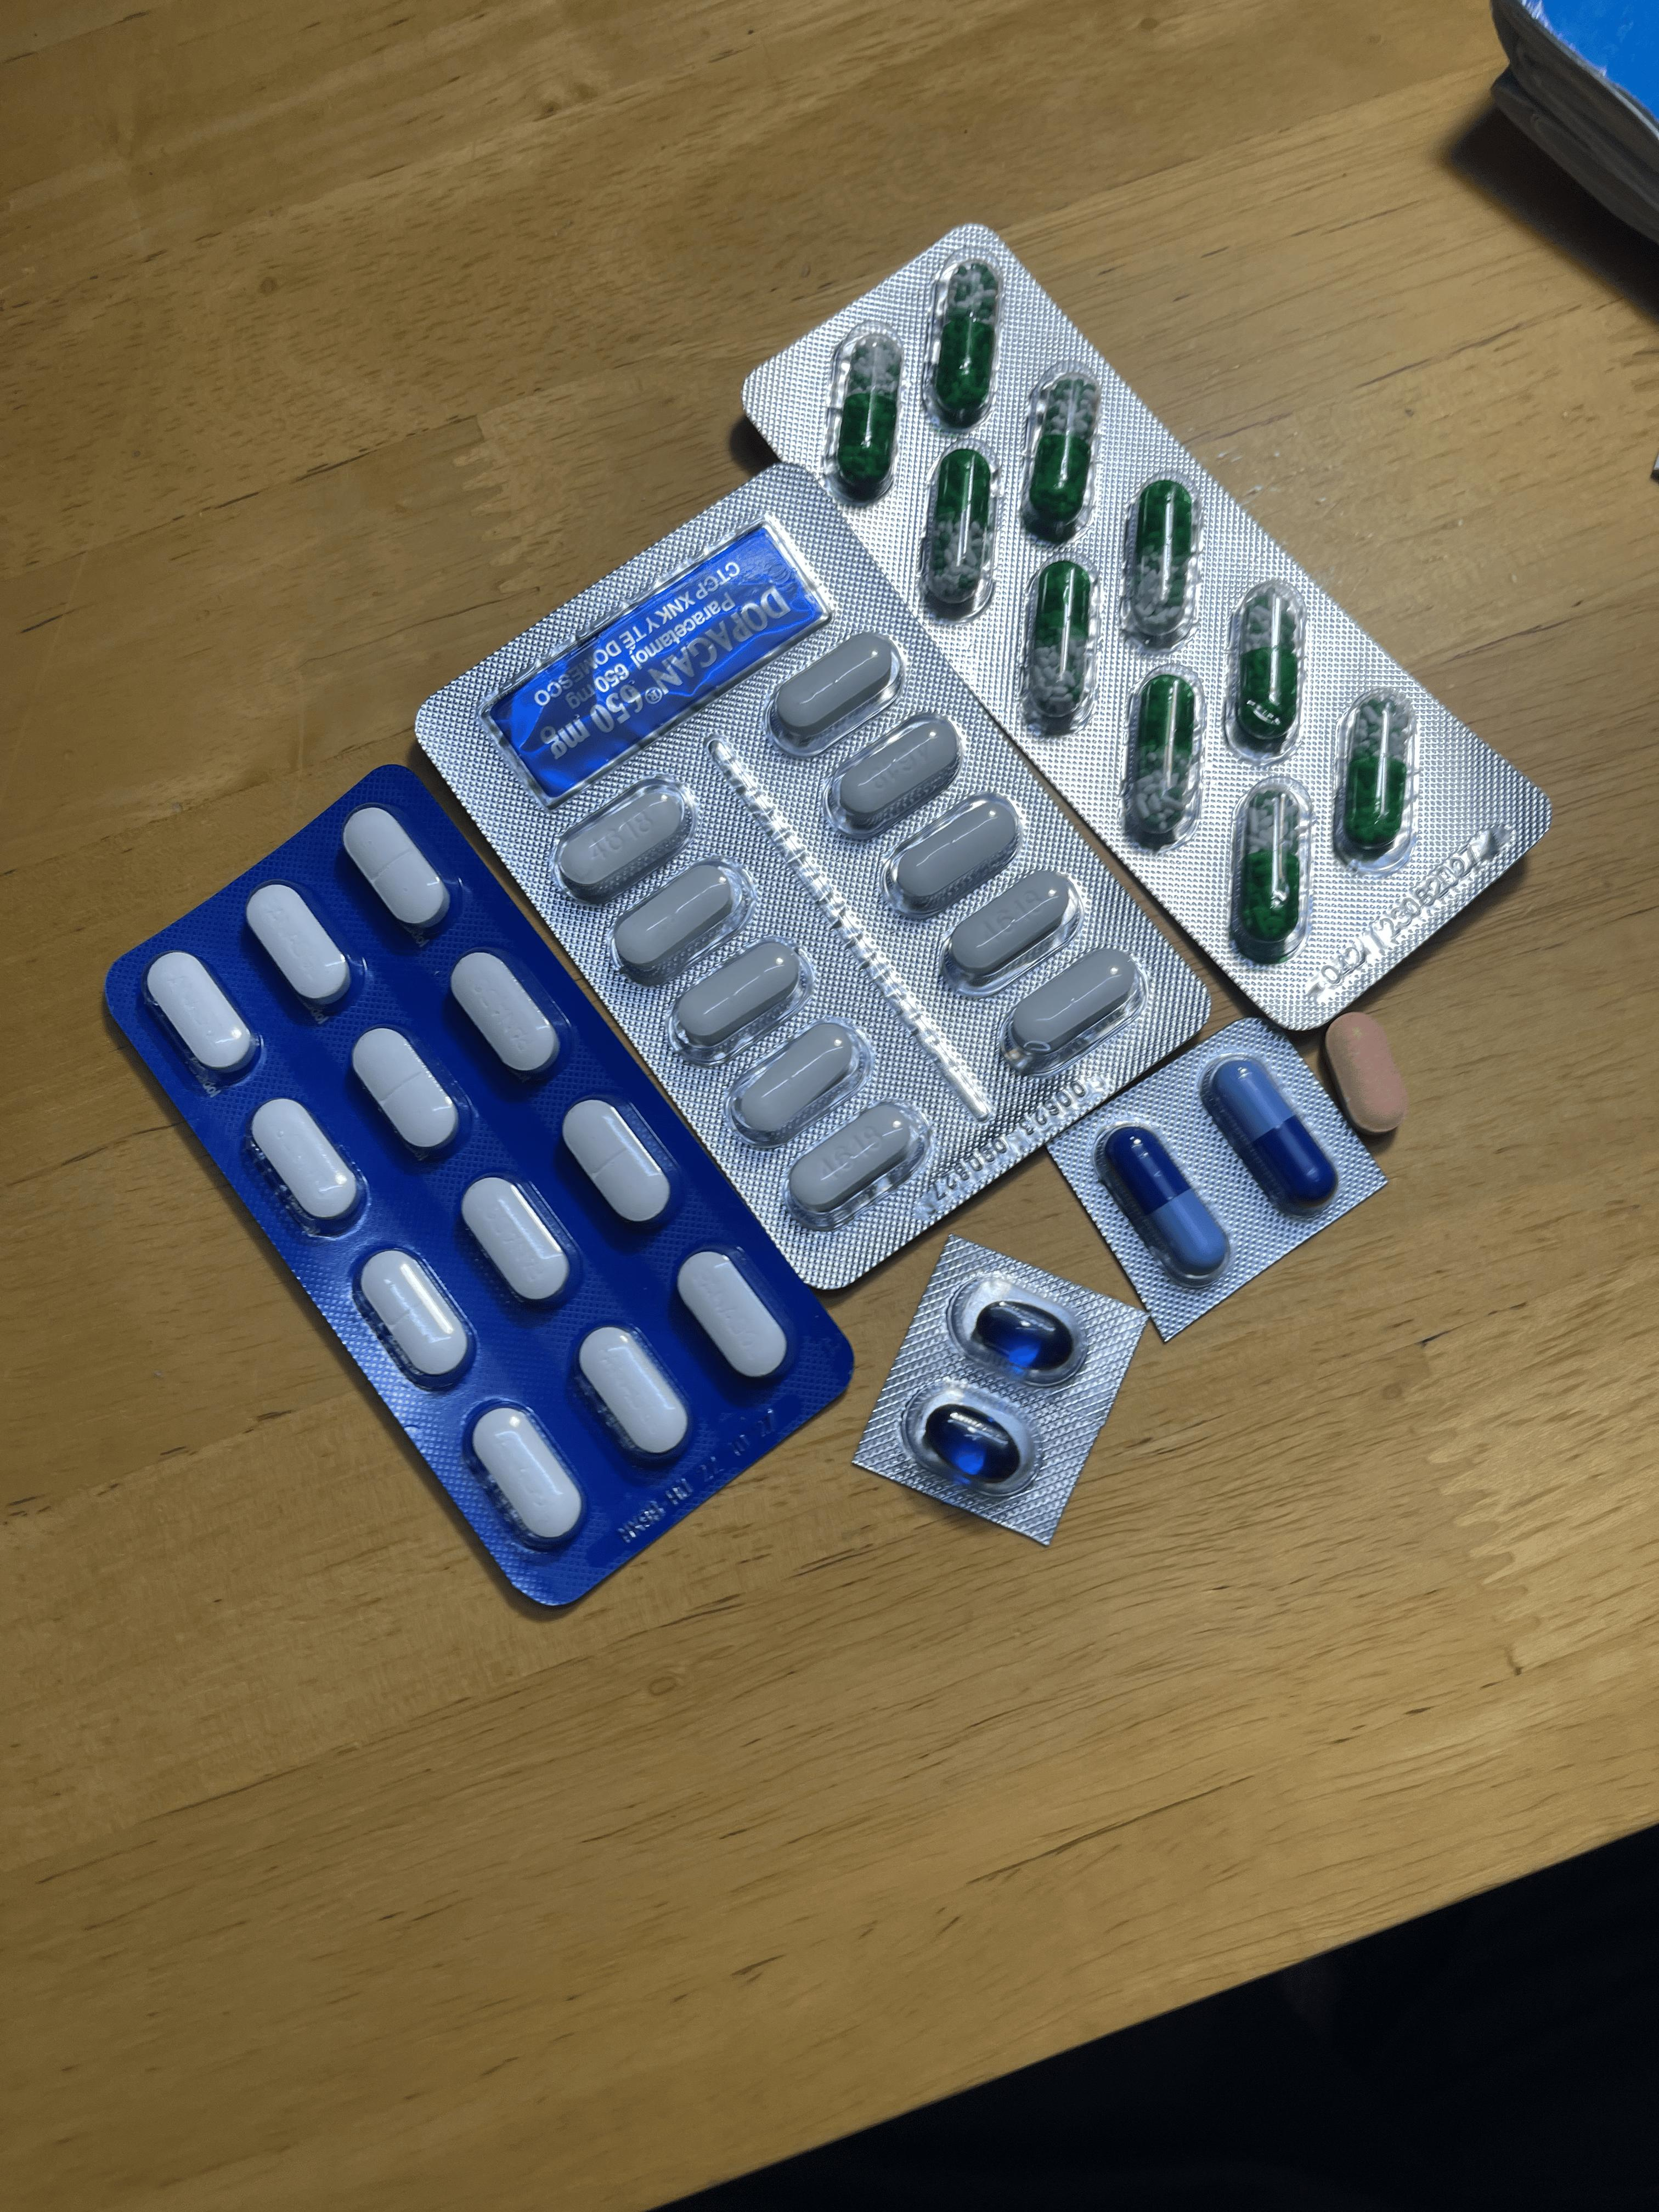Lincomyxin_500mg: (924, 1400, 1021, 1480), (972, 1298, 1073, 1371)
Loratadine_10mg: (1324, 1012, 1406, 1134)
Paracetamol_350mg: (467, 1402, 584, 1547), (573, 1322, 692, 1461), (674, 1245, 791, 1386), (354, 1245, 471, 1386), (458, 1174, 573, 1308), (559, 1096, 674, 1228), (247, 1097, 362, 1228), (350, 1026, 464, 1158), (143, 951, 258, 1080), (450, 949, 561, 1078), (342, 806, 455, 932), (244, 883, 354, 1010)
Paracetamol_500mg: (877, 789, 1025, 918), (608, 853, 749, 988), (552, 772, 695, 902), (936, 866, 1080, 995), (782, 1097, 927, 1224), (1000, 948, 1140, 1076), (824, 711, 965, 838), (666, 935, 809, 1059), (727, 1014, 863, 1143), (765, 631, 894, 758)
Paracetamol_650mg: (1227, 777, 1310, 965), (1122, 671, 1202, 848), (826, 329, 906, 502), (918, 444, 997, 617), (1019, 373, 1100, 540), (1335, 690, 1412, 859), (1021, 557, 1094, 733), (927, 254, 1002, 425), (1122, 474, 1197, 639), (1229, 582, 1302, 745)
pill: (1208, 1057, 1337, 1207), (1105, 1125, 1229, 1273)
